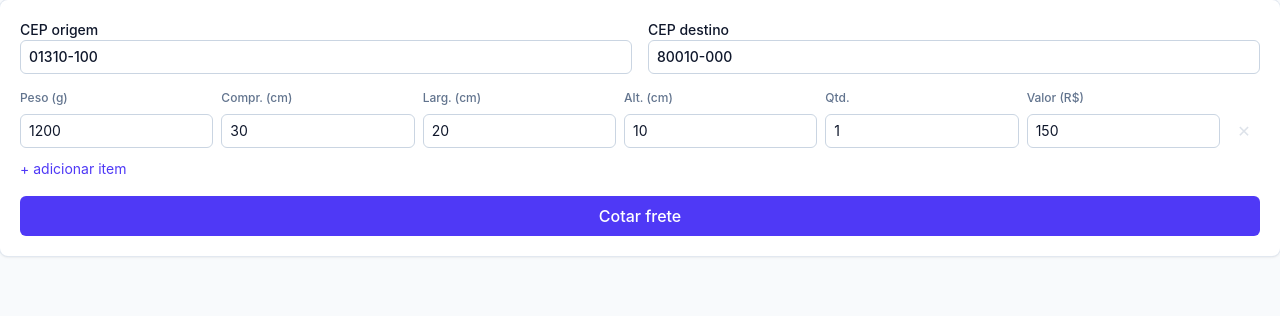
Scenario: <QuoteForm /> › adiciona e remove itens, sem permitir remover o último
Expected: the button named "Remover item" is disabled, [1228,114,1260,148]
What coordinates should you click on to do the following:
click the button "+ adicionar item"
I would click on:
 (73, 169)
Its box is [20,159,126,179].
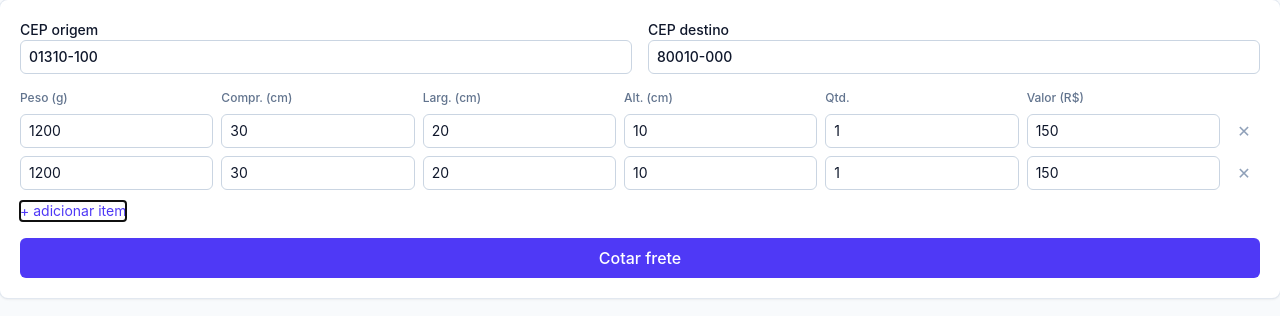
Result: the number of buttons named "Remover item" is 2
Result: the button named "Remover item" is enabled at [1228,114,1260,148]
What coordinates should you click on to do the following:
click the button named "Remover item"
I would click on:
 (1244, 173)
Its box is [1228,156,1260,190].
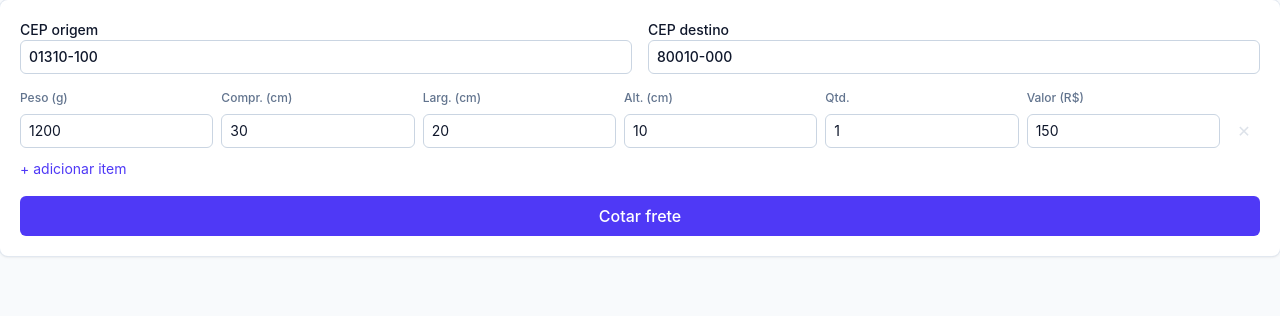
Result: the number of buttons named "Remover item" is 1 at [1228,114,1260,148]
